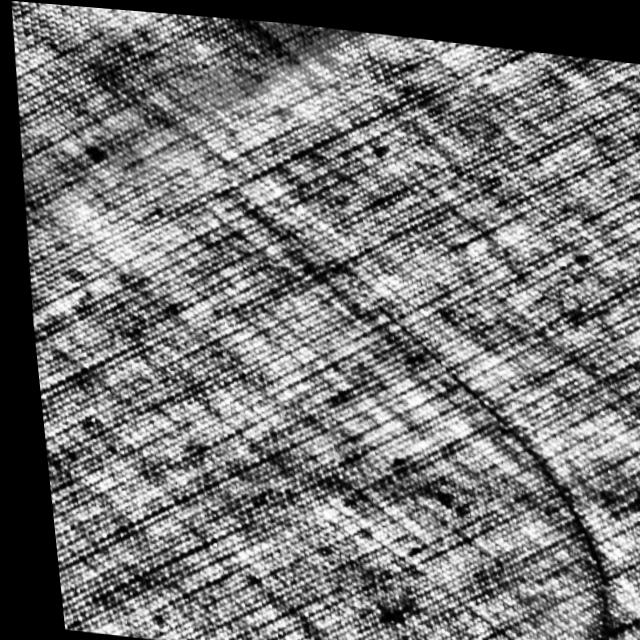Hole: (340, 354, 640, 640)
